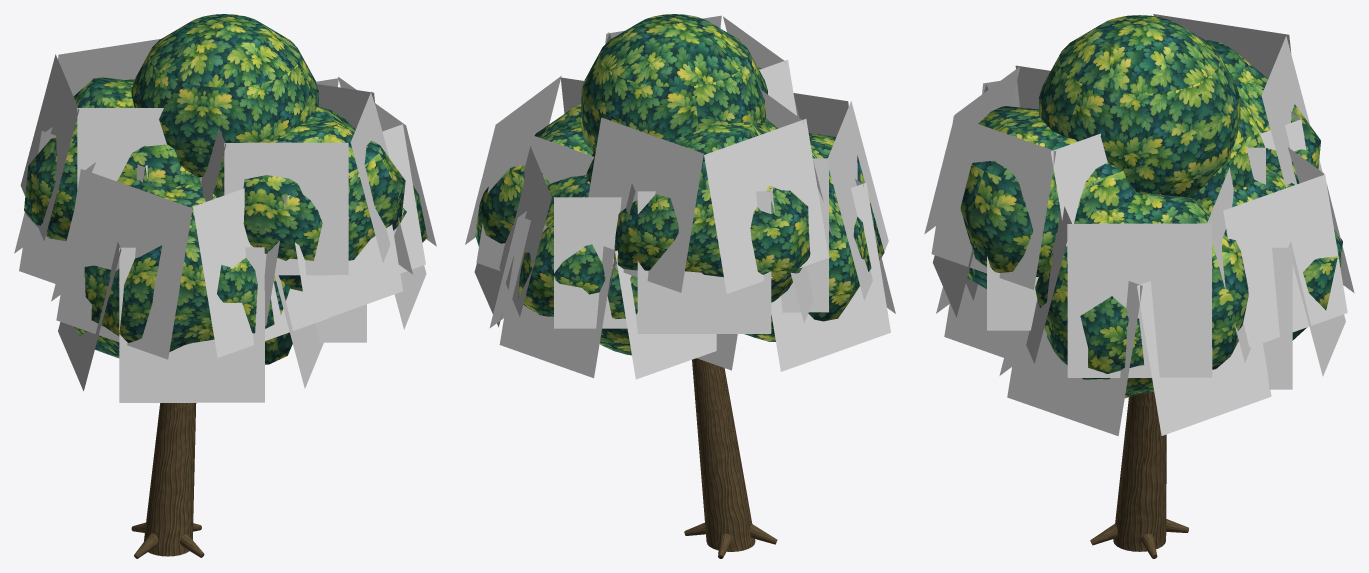
Rendered from NaturalTree_05.fbx.
3 renders of one model, left to right at view 1: azimuth 30°, elevation 25°; view 2: azimuth 150°, elevation 25°; view 3: azimuth 270°, elevation 25°, orthographic. The views are drawn at different scales.
Parts seen in each view (by area): view 1: NaturalTree_05.001; view 2: NaturalTree_05.001; view 3: NaturalTree_05.001.
Part boxes in pixels (left/top/right/bottom): NaturalTree_05.001: left=14, top=14, right=436, bottom=558; NaturalTree_05.001: left=465, top=14, right=895, bottom=558; NaturalTree_05.001: left=924, top=14, right=1354, bottom=558.
Size of the model in its own units: 556 by 728 by 520.
3 materials, 2 textured.
